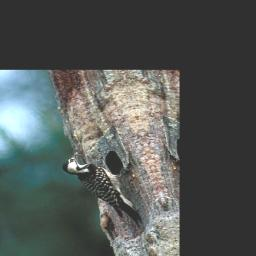Woodpecker: (57, 143, 144, 239)
